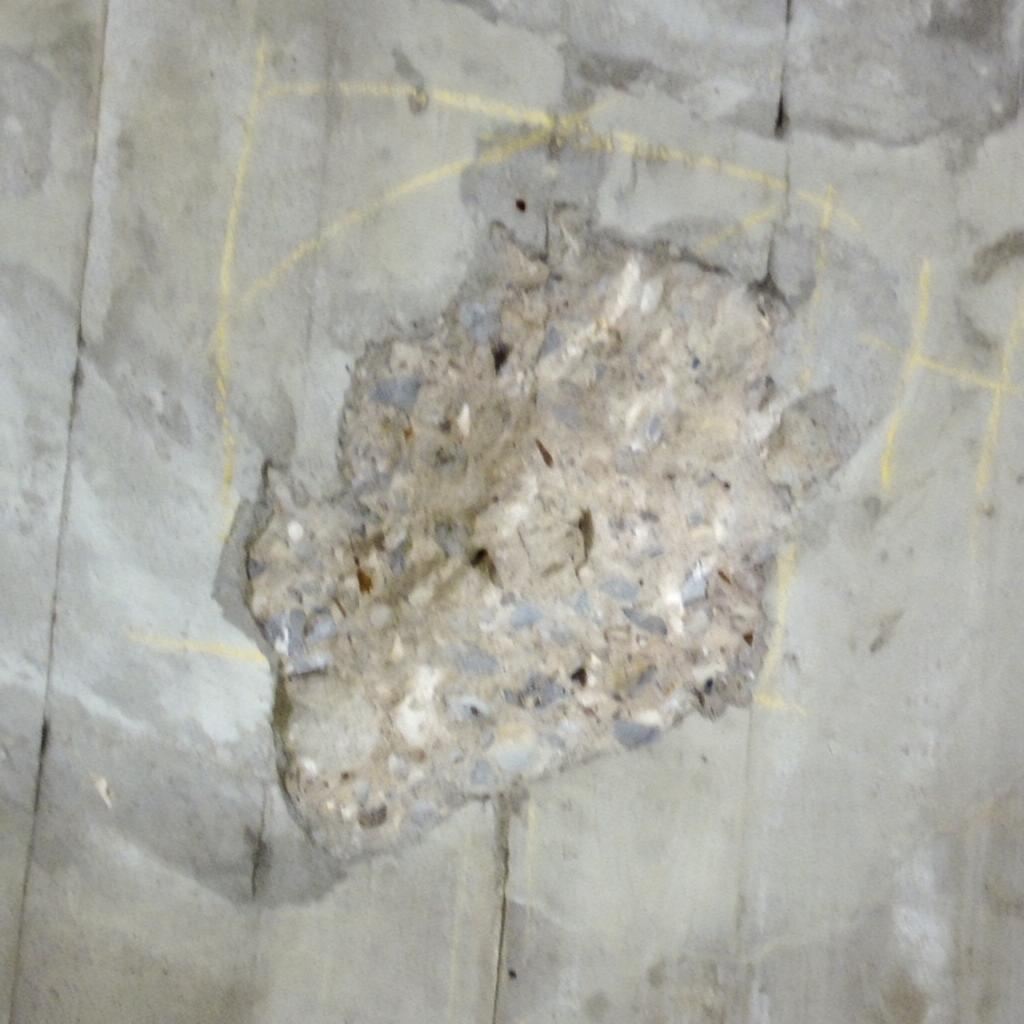spalling: (220, 212, 850, 858)
